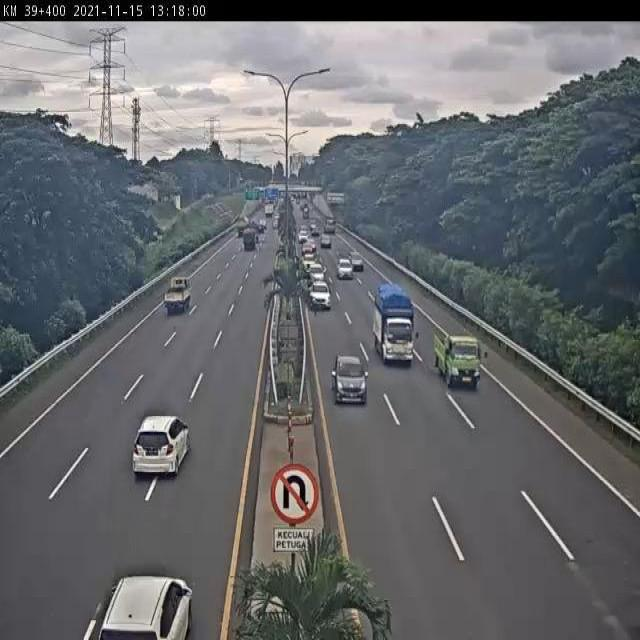car: (132, 417, 192, 476), (331, 351, 369, 408), (308, 279, 332, 312)
truck: (371, 283, 416, 368), (432, 327, 483, 395), (162, 276, 193, 313)
